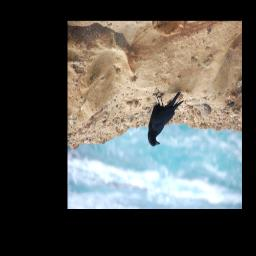Crow: (147, 89, 184, 149)
